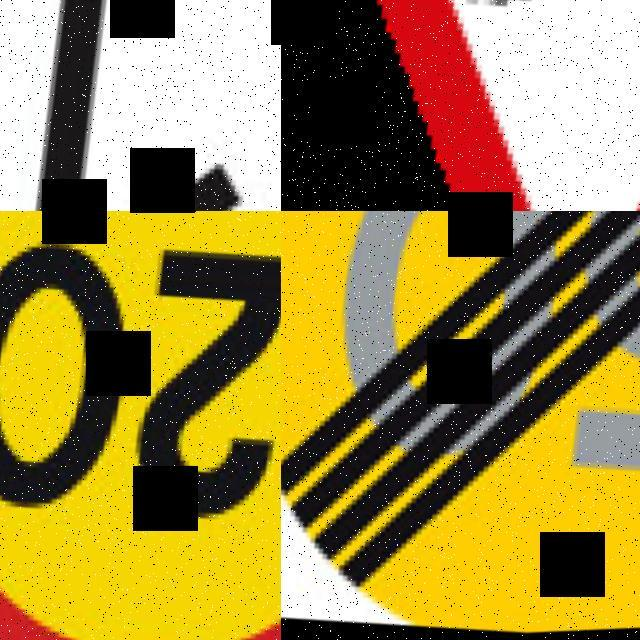124: (281, 211, 640, 640)
55: (0, 211, 281, 640)
Cattle: (281, 0, 640, 211)
adjoining way: (0, 0, 281, 211)
